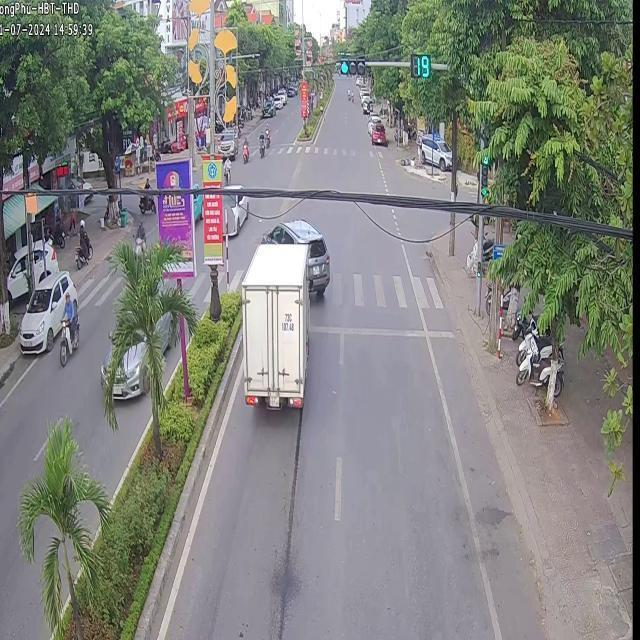car: (240, 240, 307, 407), (260, 218, 328, 294), (17, 269, 76, 351), (220, 191, 247, 234)
green_light: (478, 151, 489, 201), (411, 53, 431, 75), (338, 61, 366, 75)
motobike: (58, 318, 78, 365)
stop_line: (308, 325, 424, 336), (426, 329, 450, 336)
